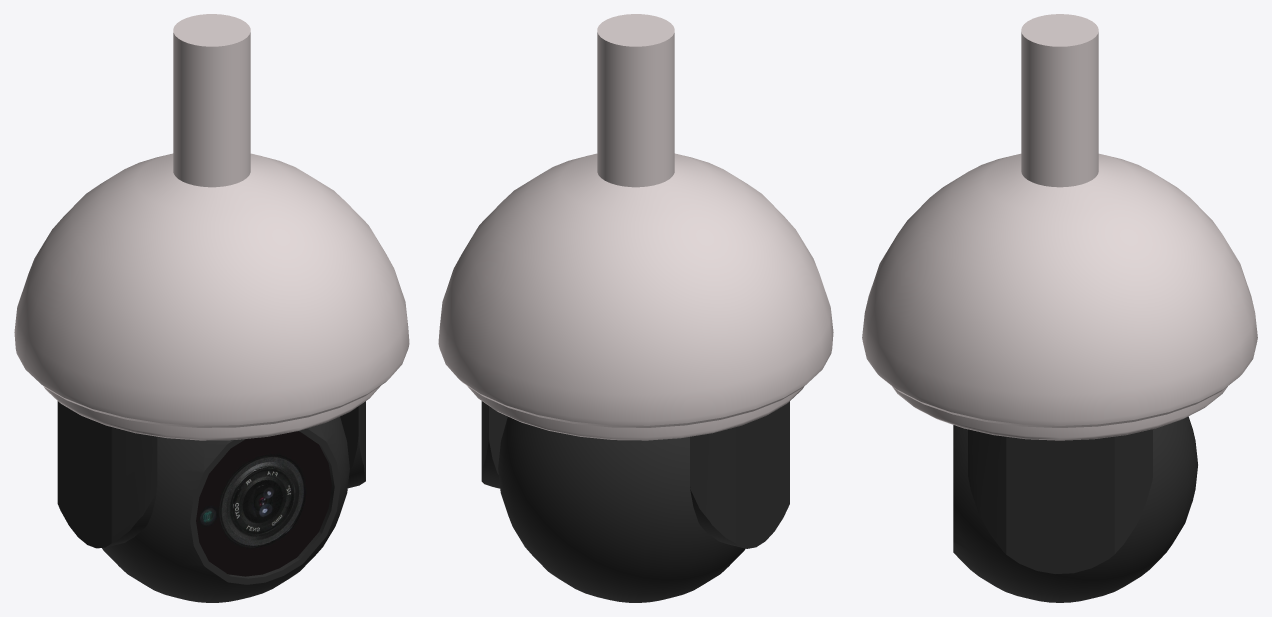
The model's file is sxj_02_01.glb.
3 views of the same model, side by side, from view 1: azimuth 30°, elevation 25°; view 2: azimuth 150°, elevation 25°; view 3: azimuth 270°, elevation 25° (orthographic).
Visible parts, largest first — view 1: 球机; view 2: 球机; view 3: 球机.
Part boxes in pixels (box(x1,y1,x2,y2)): 球机: box(14, 14, 409, 602); 球机: box(438, 14, 833, 602); 球机: box(862, 14, 1257, 602).
Bounding box in the file's own units: 0.358 × 0.5586 × 0.358.
3 materials, 3 textured.
